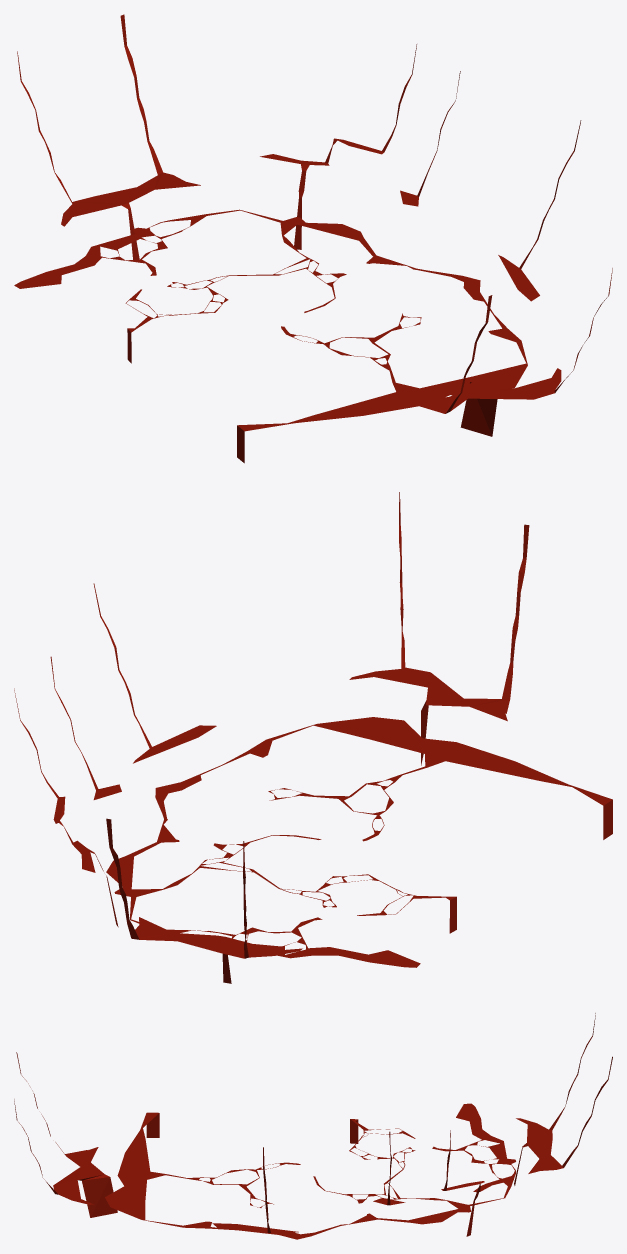
Rendered from Lava_01.FBX.
The picture shows the model from 3 angles, top to bottom: view 1: azimuth 30°, elevation 25°; view 2: azimuth 150°, elevation 25°; view 3: azimuth 270°, elevation 25°; orthographic projection. The views are drawn at different scales.
Parts seen in each view (by area): view 1: Lava_01; view 2: Lava_01; view 3: Lava_01.
Part boxes in pixels (box(x1,y1,x2,y2)): Lava_01: box(14, 14, 612, 463); Lava_01: box(14, 492, 612, 983); Lava_01: box(14, 1013, 612, 1239).
Size of the model in its own units: 23.56 by 9.78 by 35.84.
